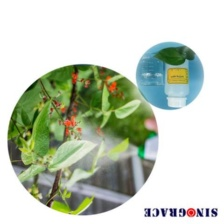insecticide: (162, 52, 190, 109)
